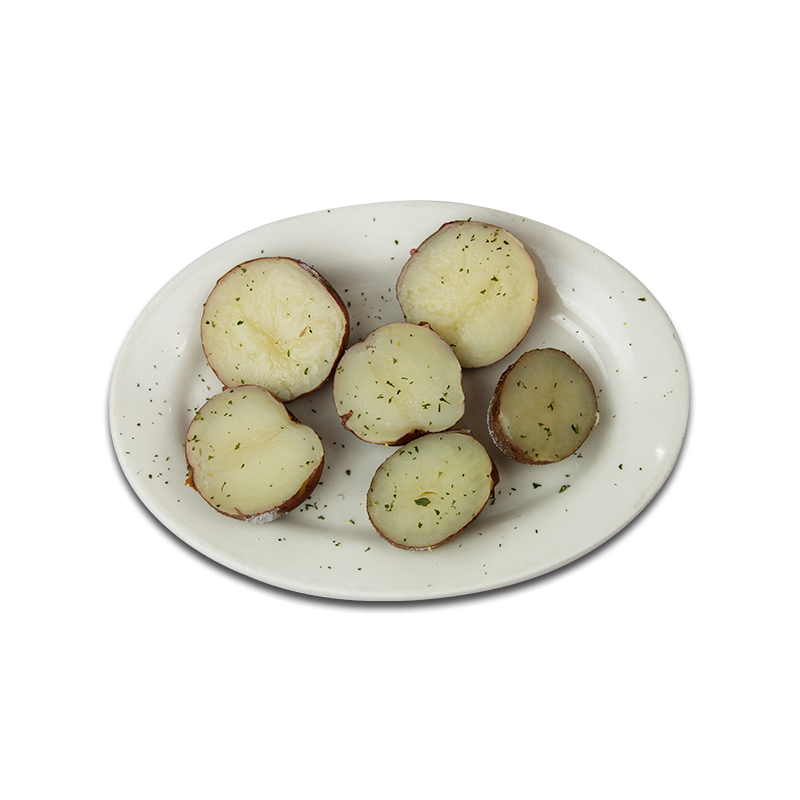boiled potatoes: (204, 253, 338, 404), (177, 390, 329, 521), (403, 219, 536, 364), (369, 430, 496, 551), (346, 328, 463, 440), (479, 351, 602, 455)
